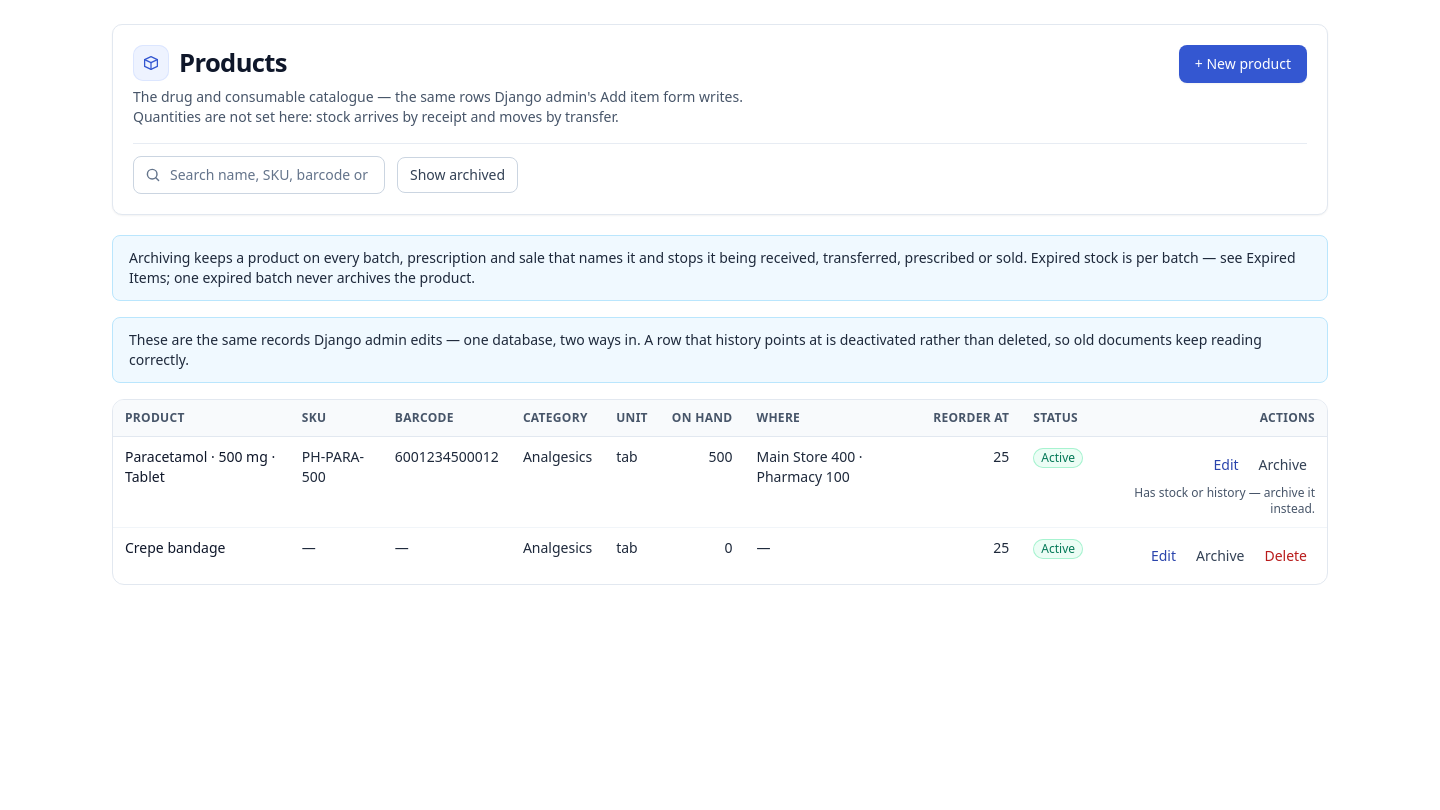
Scenario: Administration → Products › asks before deleting, and shows the server's refusal when history appeared meanwhile
The width and height of the screenshot is (1440, 810).
Click the button "Delete" at (1286, 556), box [1256,538,1315,574]
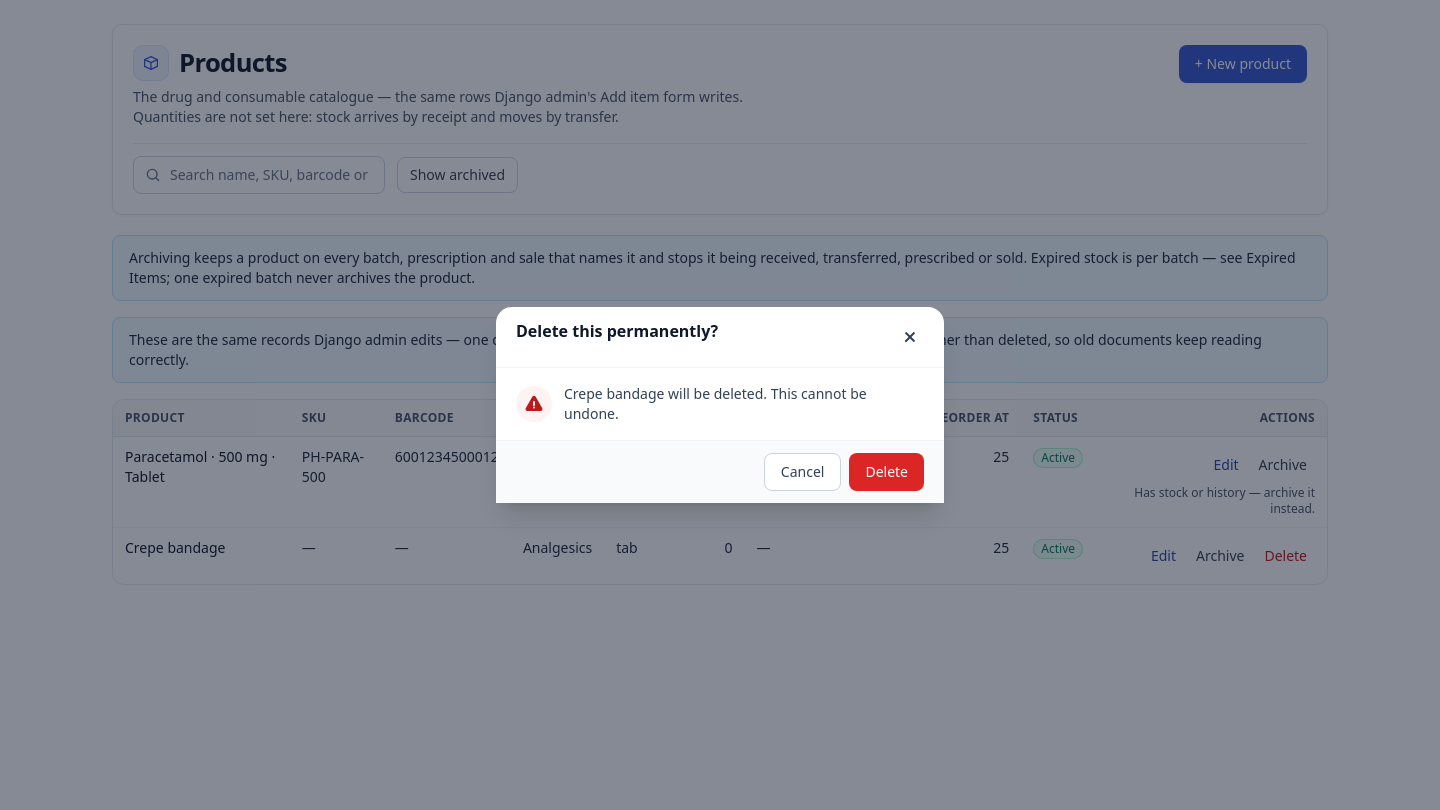
Check: the heading "Delete this permanently?" is shown, box [516,319,718,343]
Click the button "Delete" at (887, 472), box [849,453,924,491]
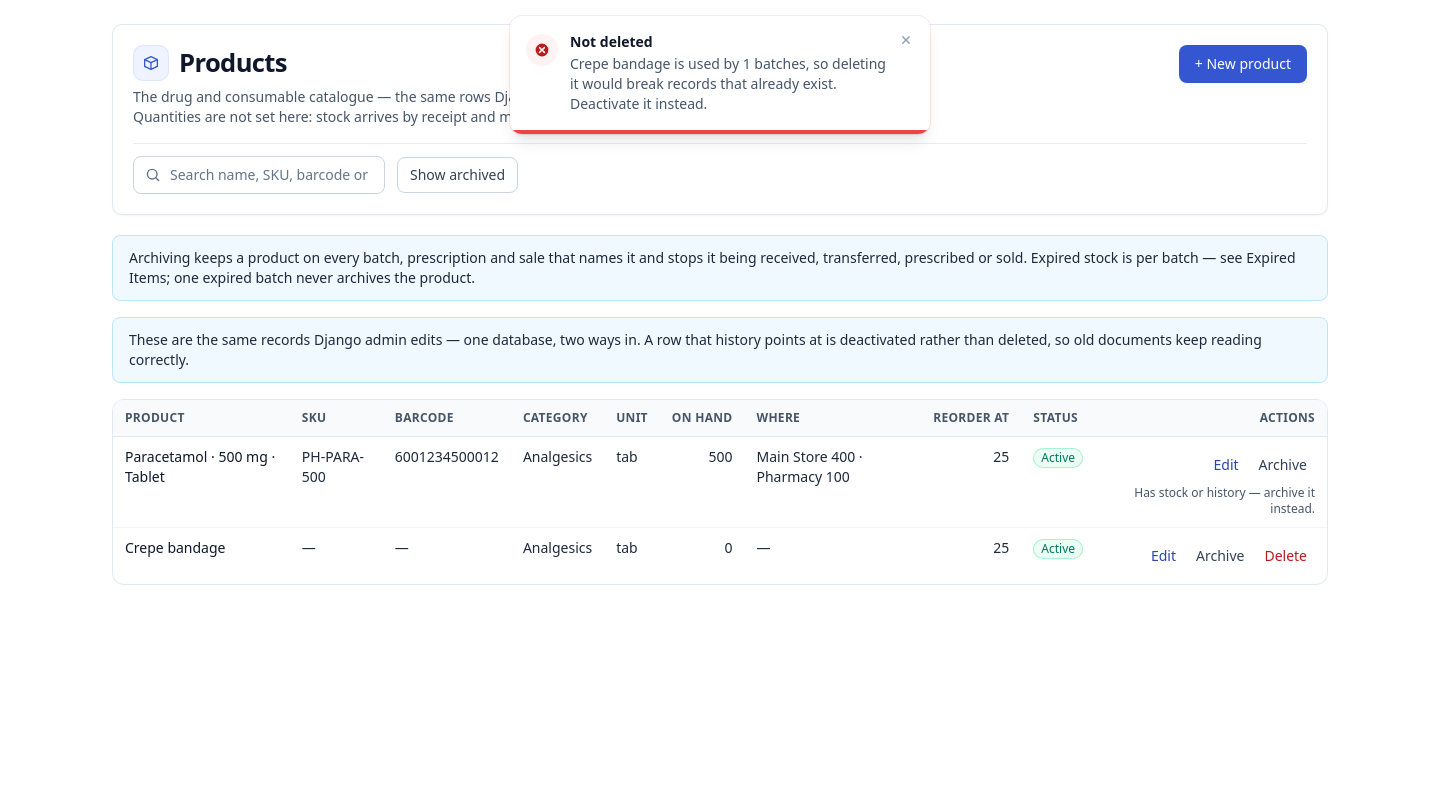
Check: the text "would break records that already exist" is shown, box [570,54,886,113]
